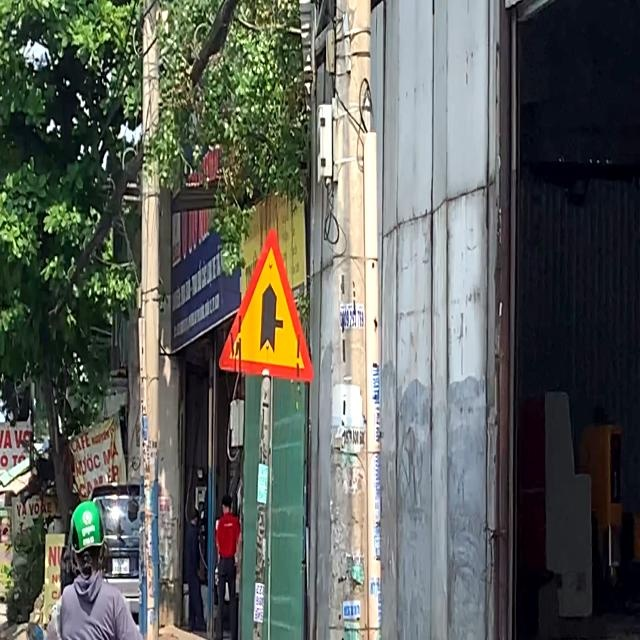bien_nguy_hiem: (211, 212, 321, 388)
